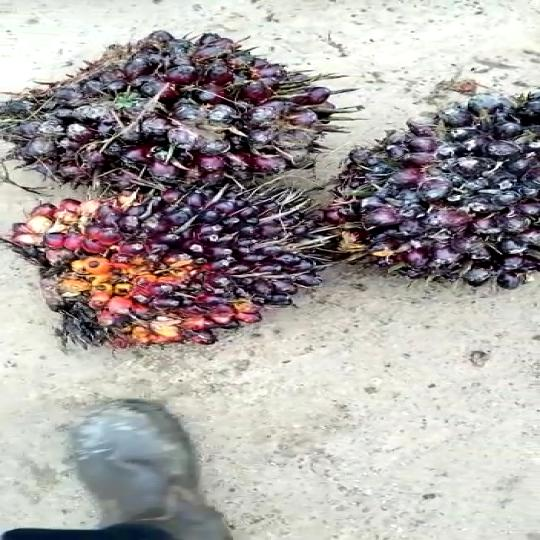kurang masak: (0, 26, 334, 199), (0, 178, 326, 350), (304, 93, 540, 295)
